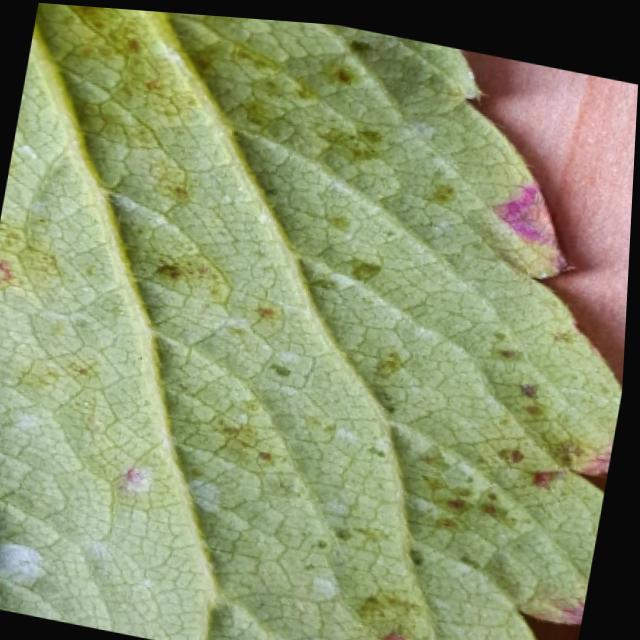Angular Leafspot: (0, 2, 619, 640)
